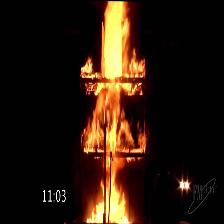fire: (99, 0, 126, 223)
